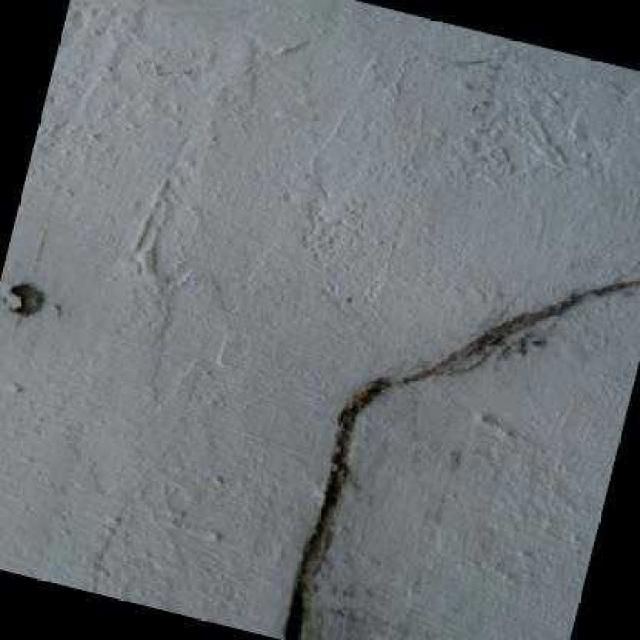D00: (274, 270, 640, 640)
